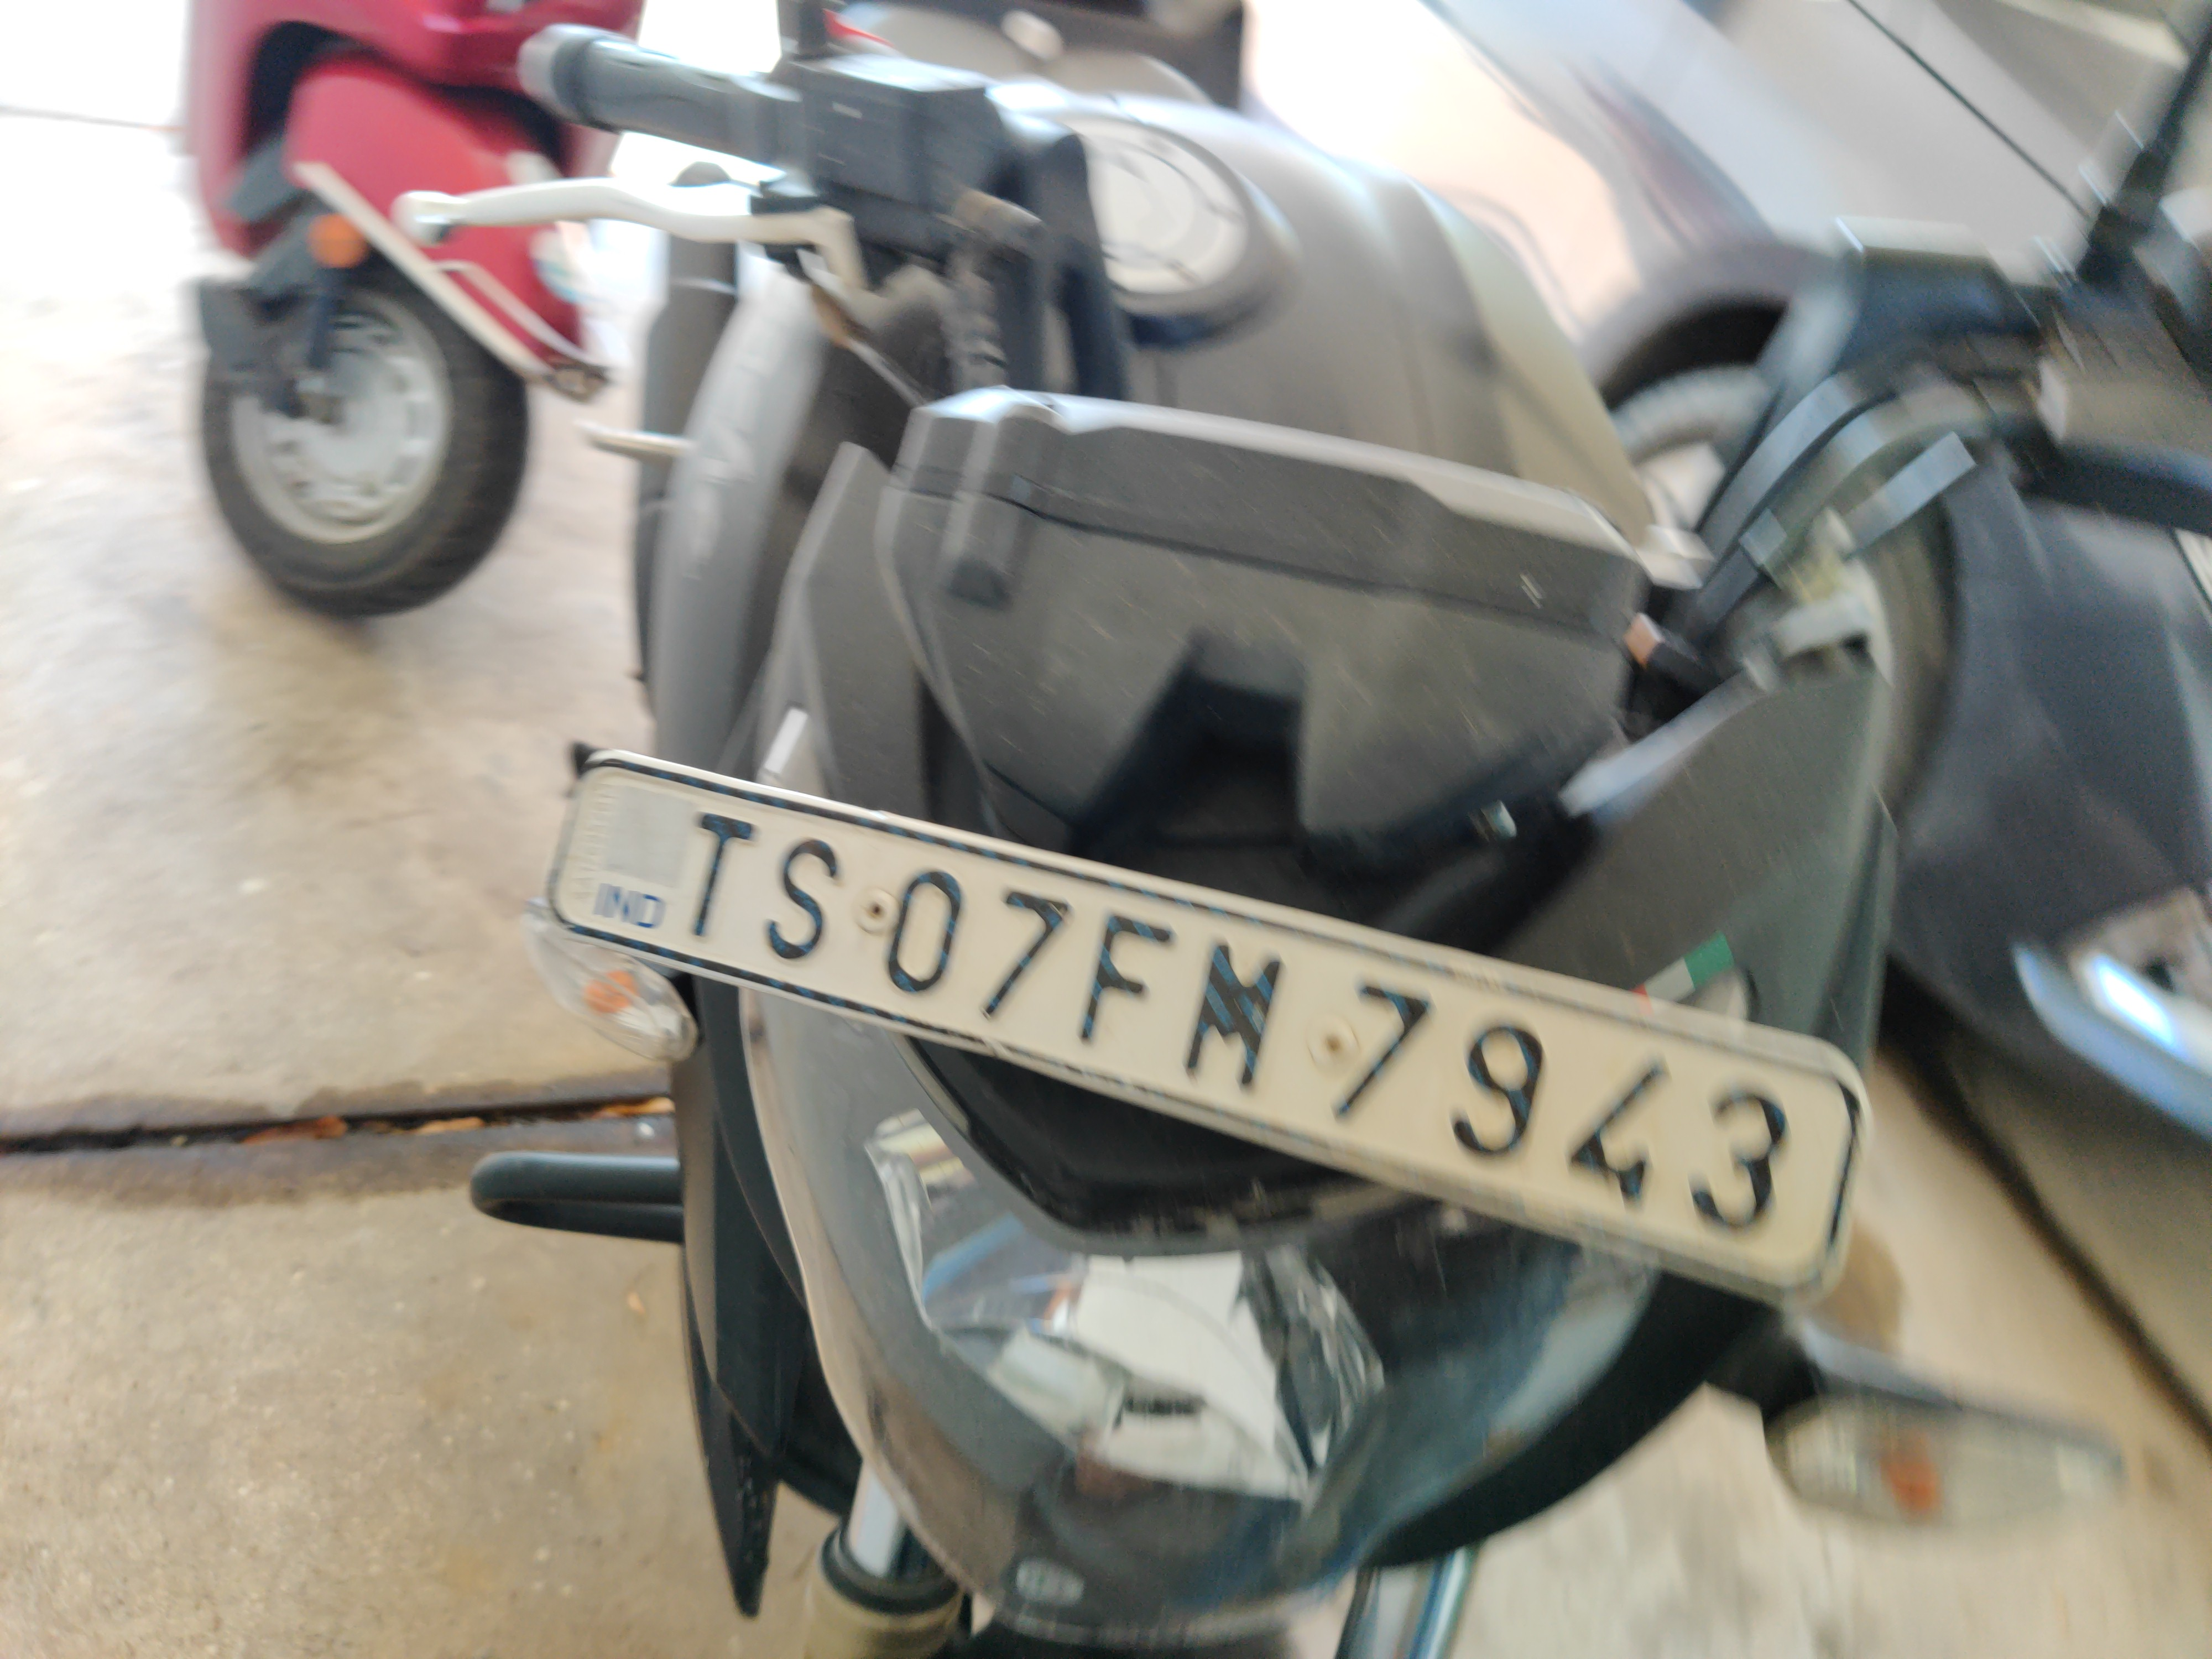plate: (521, 744, 1903, 1320)
